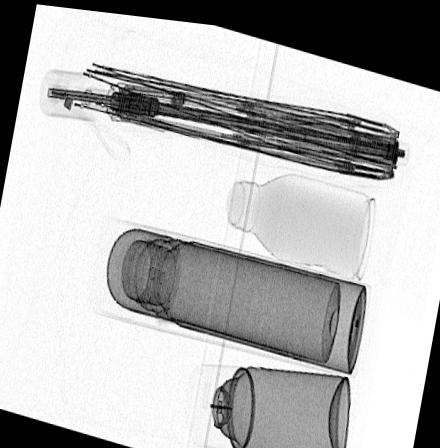Sprayer: (181, 355, 351, 448)
